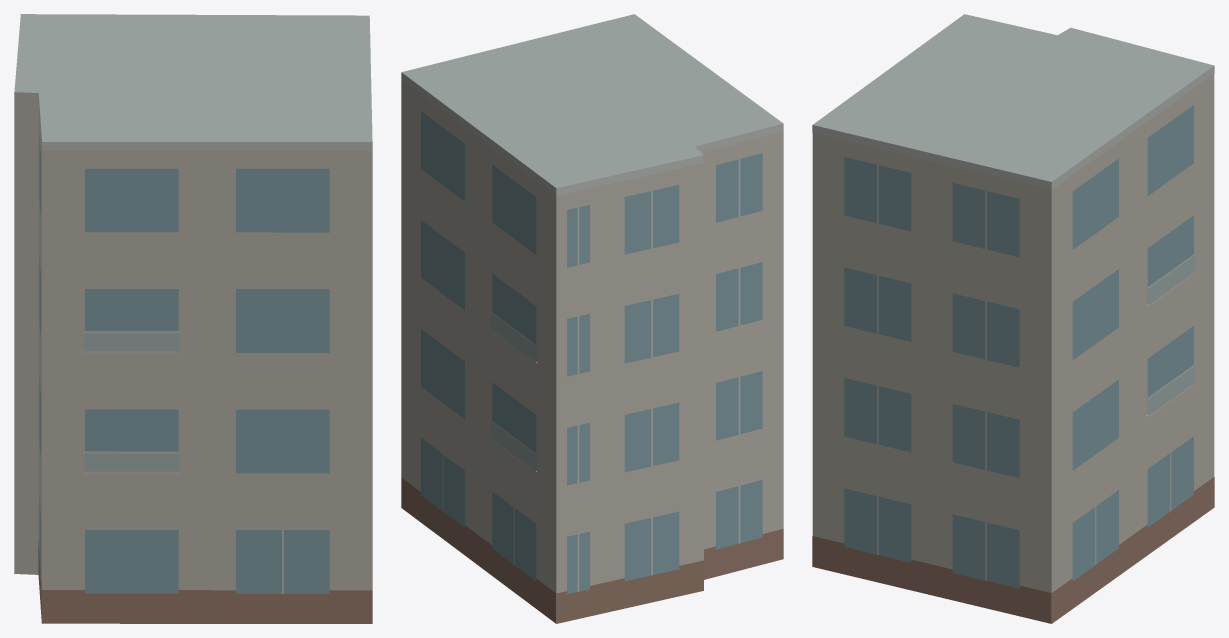
File: survey-upis-32517075.glb
3 views of the same model, side by side, from view 1: azimuth 30°, elevation 25°; view 2: azimuth 150°, elevation 25°; view 3: azimuth 270°, elevation 25° (orthographic). The views are drawn at different scales.
Parts seen in each view (by area): view 1: survey-upis-32517075.tmp; view 2: survey-upis-32517075.tmp; view 3: survey-upis-32517075.tmp.
Boxes of the visible parts, left/top/right/bottom form: survey-upis-32517075.tmp: left=14, top=14, right=372, bottom=623; survey-upis-32517075.tmp: left=401, top=14, right=783, bottom=623; survey-upis-32517075.tmp: left=812, top=14, right=1214, bottom=623.
Size of the model in its own units: 10.81 by 13.25 by 10.93.
